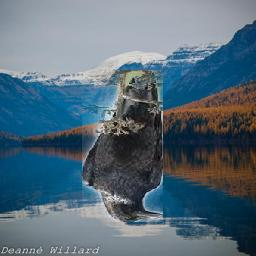Crow: (83, 70, 164, 222)
